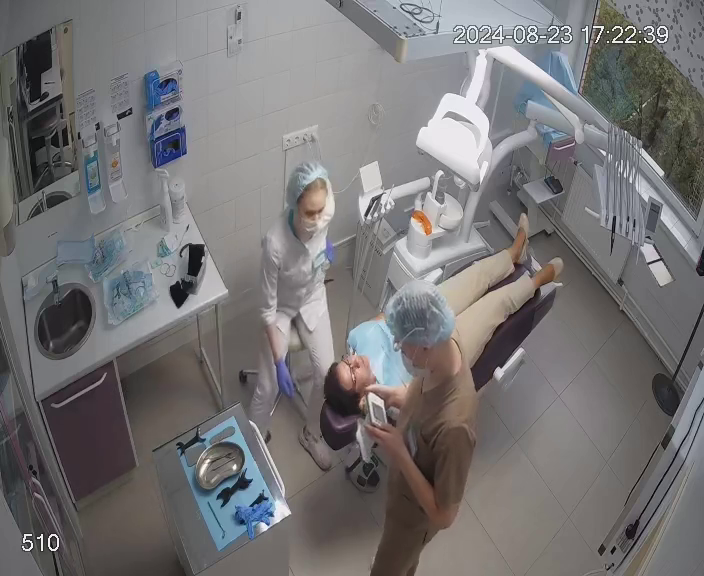Patient: (317, 211, 565, 451)
